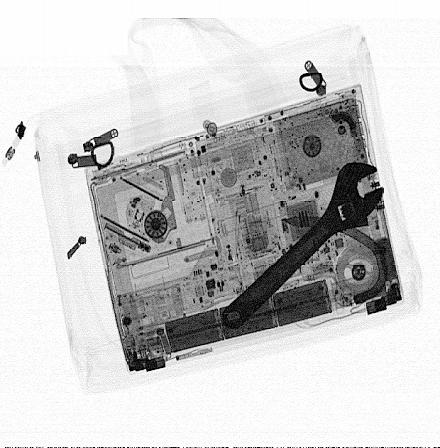Wrench: (223, 162, 386, 331)
